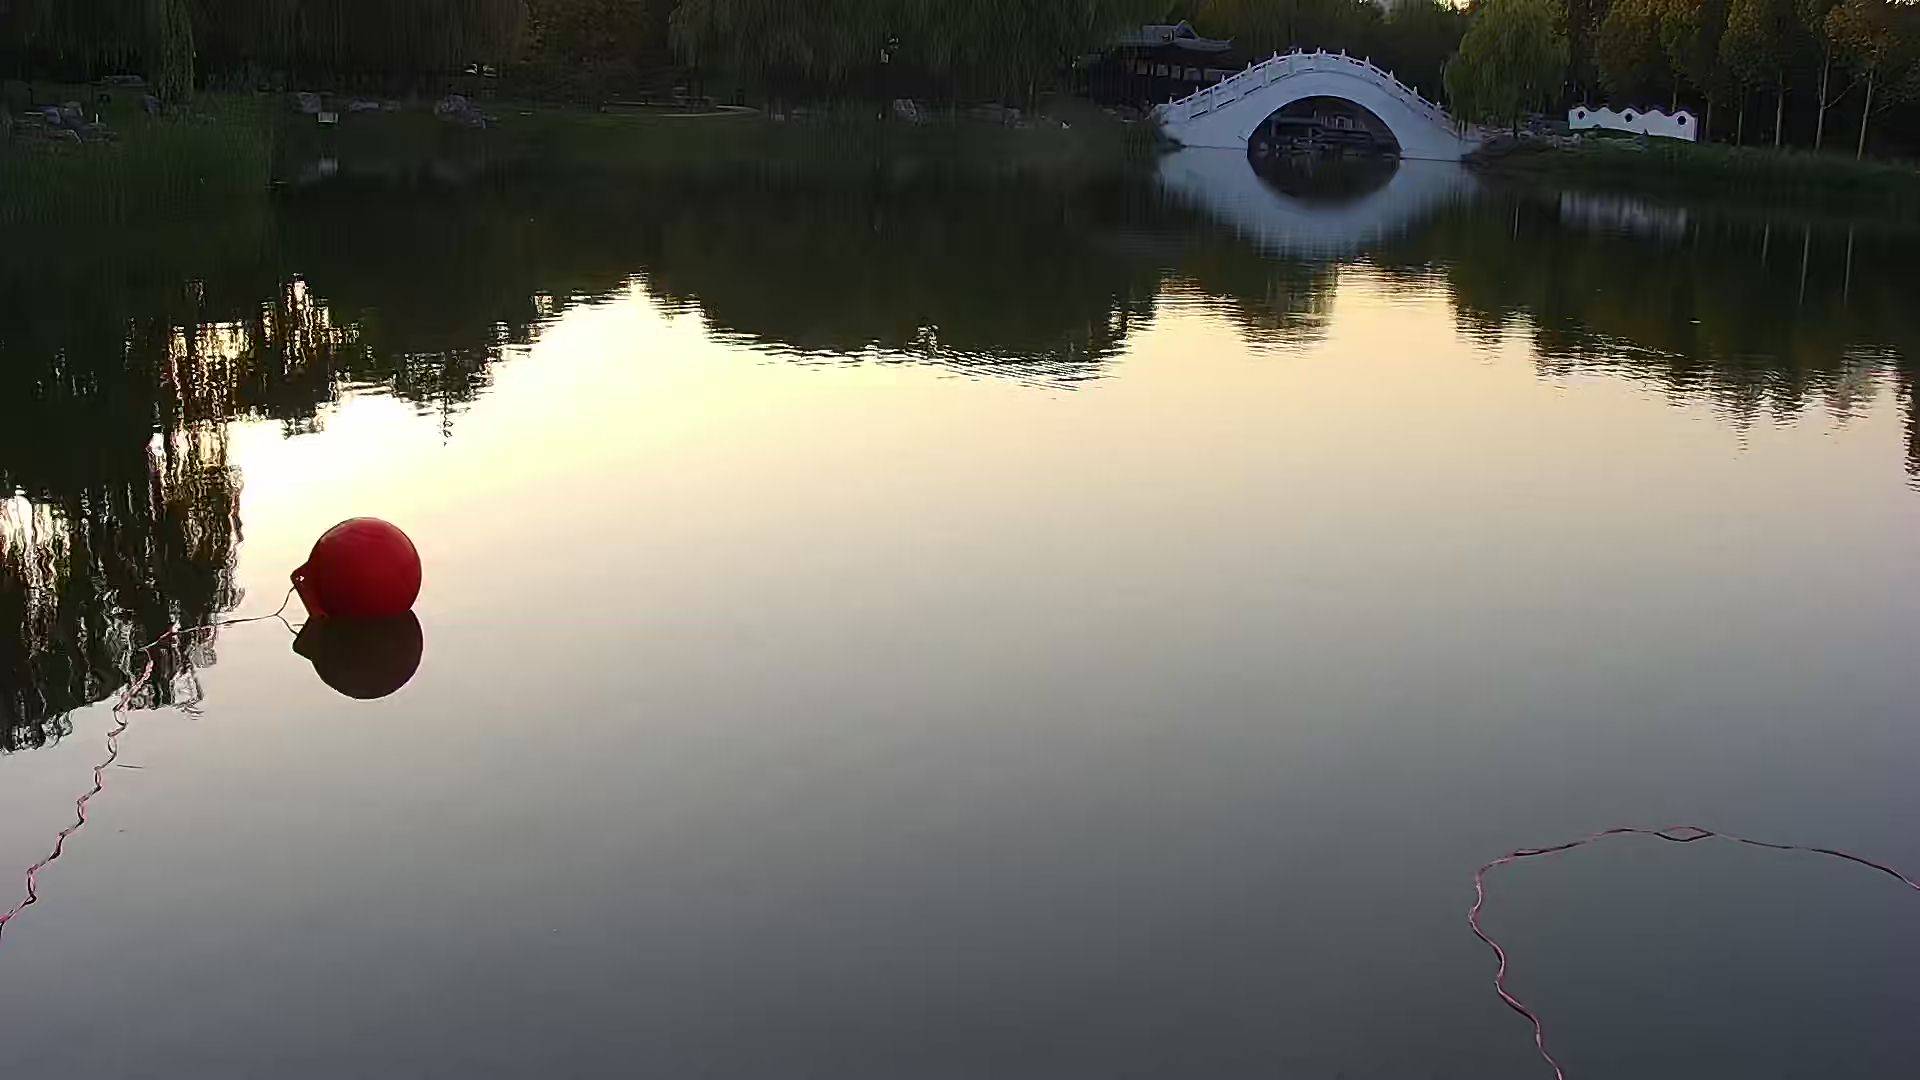bridge: (1162, 51, 1462, 154)
rubbish: (290, 522, 423, 622)
